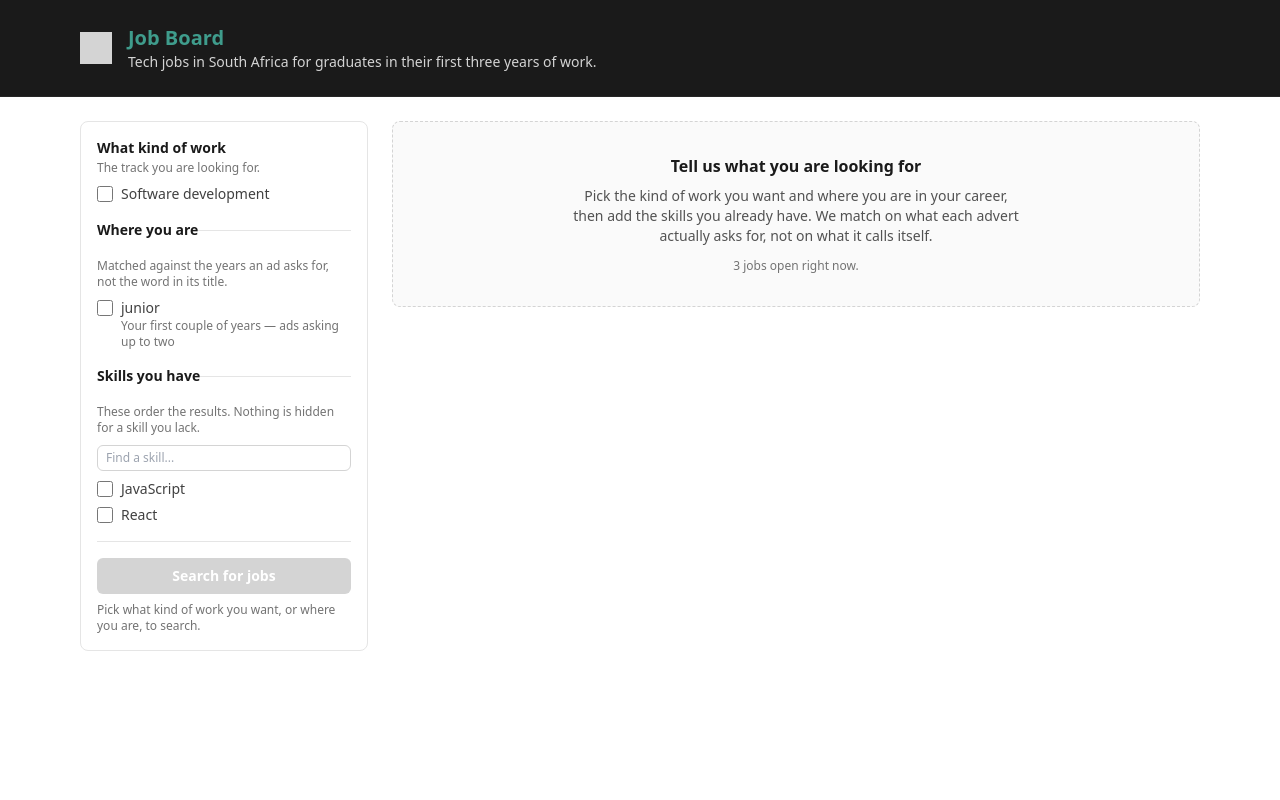
Test: App › draws exactly as many cards as the count claims, even when two jobs share an apply link
Expected: the text "3 jobs open right now." is shown, [733, 257, 859, 274]
Click the checkbox labelled "Software development" at (105, 194), box [97, 186, 113, 202]
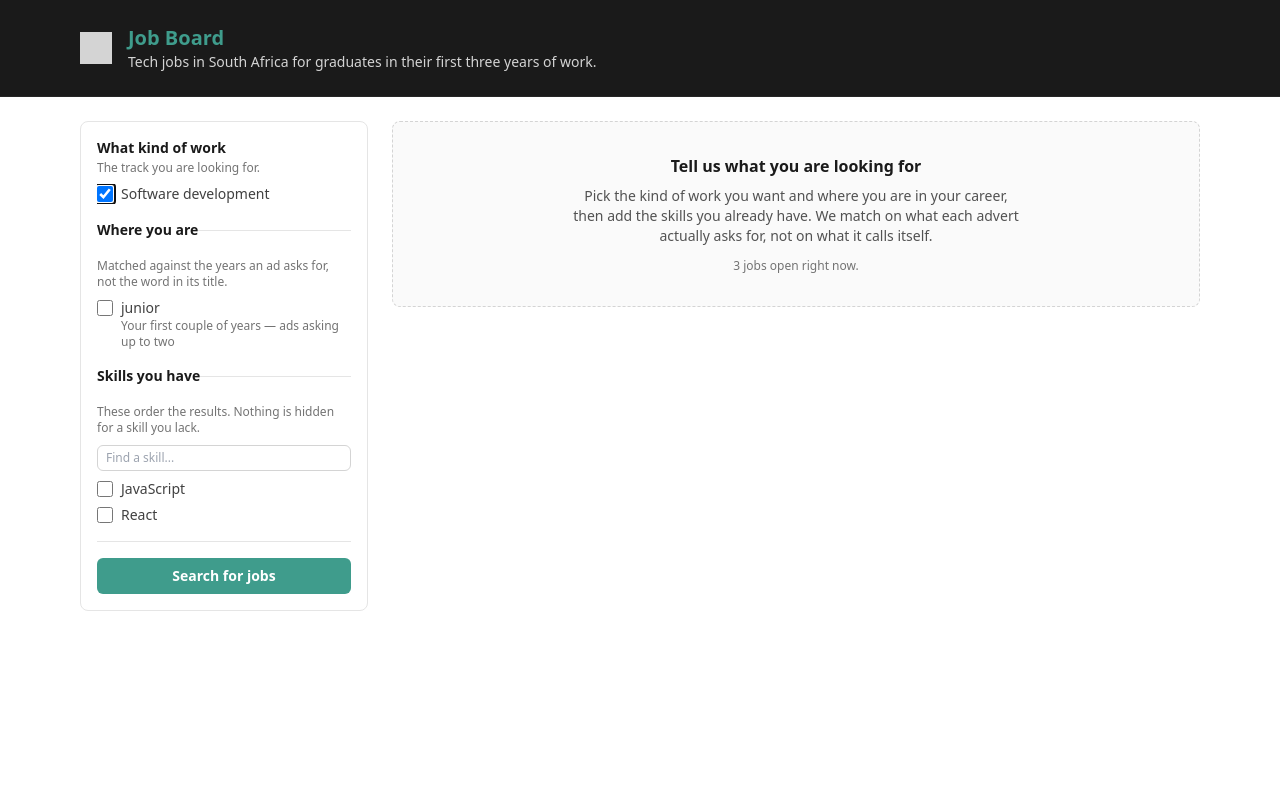
Click the button "Search for jobs" at (224, 576), box [97, 558, 351, 594]
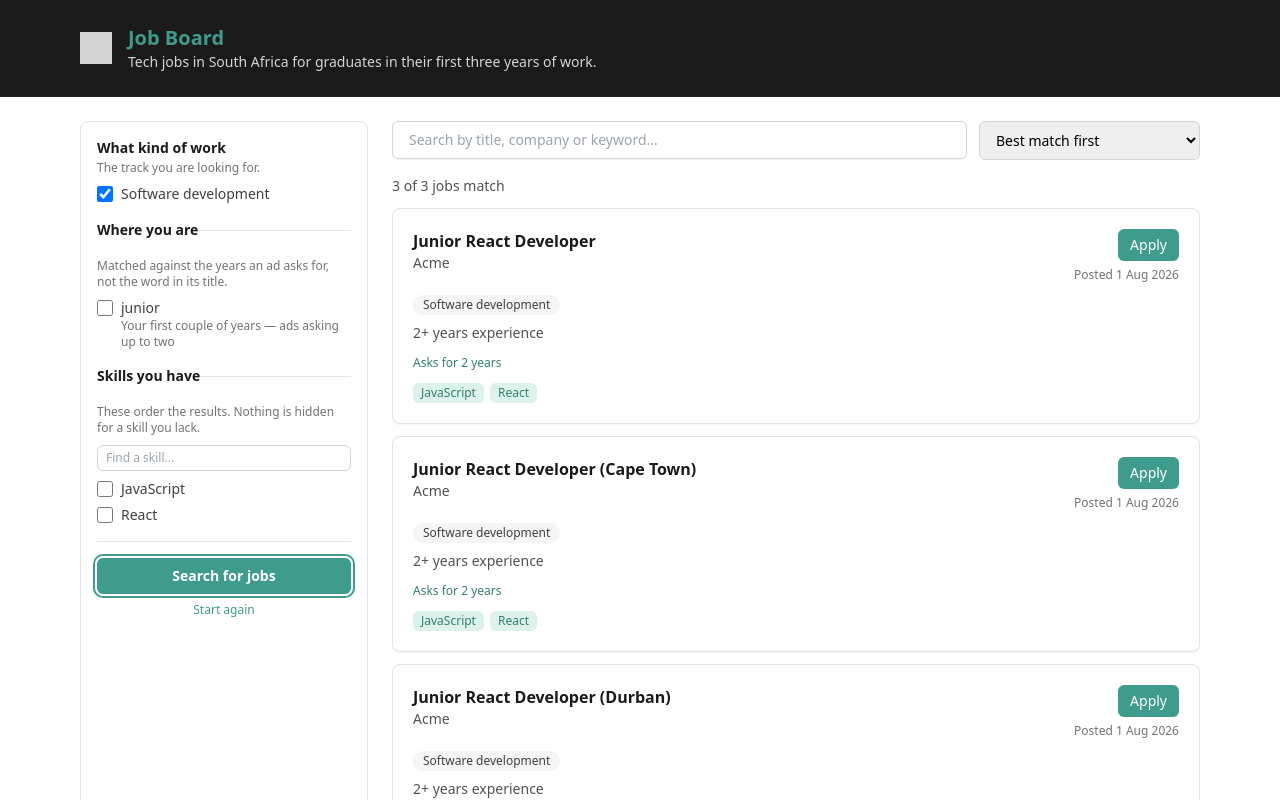
Expected: the text "3 of 3 jobs match" is shown, [392, 176, 505, 195]
Type "Durban" into the search field named "Search jobs" at (680, 140), box [392, 121, 967, 159]
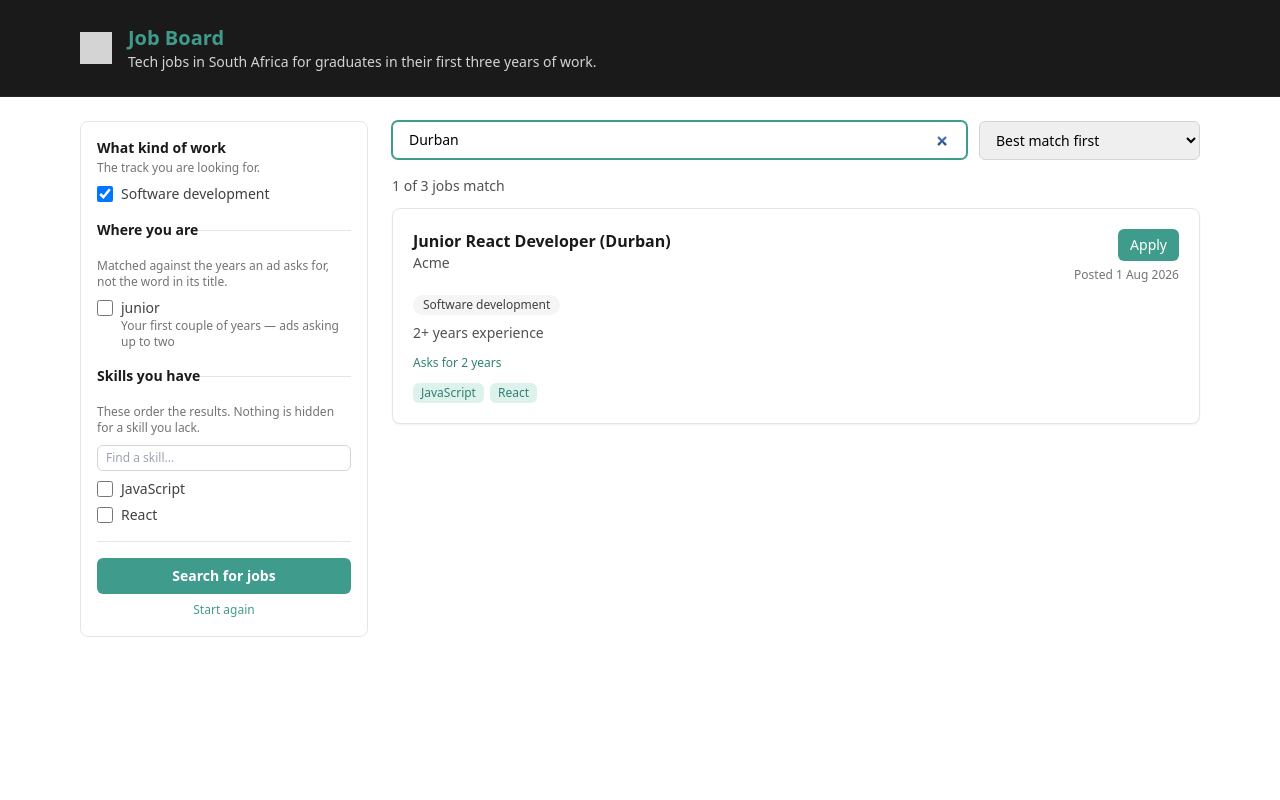
Expected: the text "1 of 3 jobs match" is shown, [392, 176, 505, 195]
